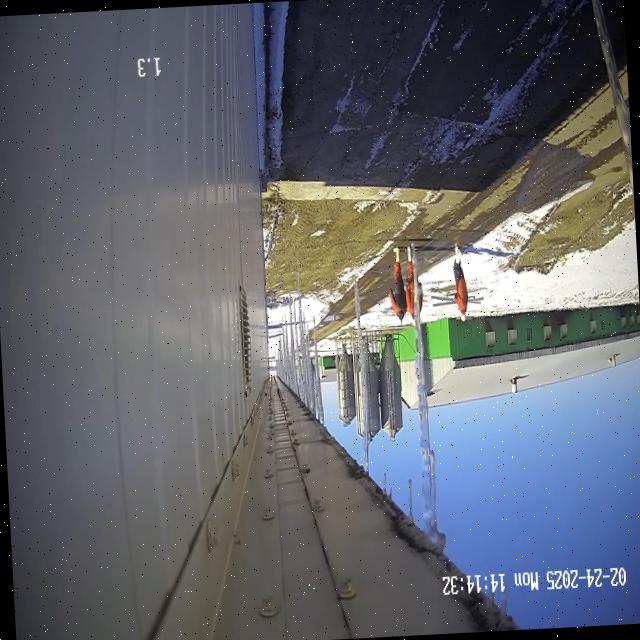Red uniform: (453, 244, 468, 322), (389, 261, 407, 322), (406, 246, 415, 320), (419, 293, 423, 312)
